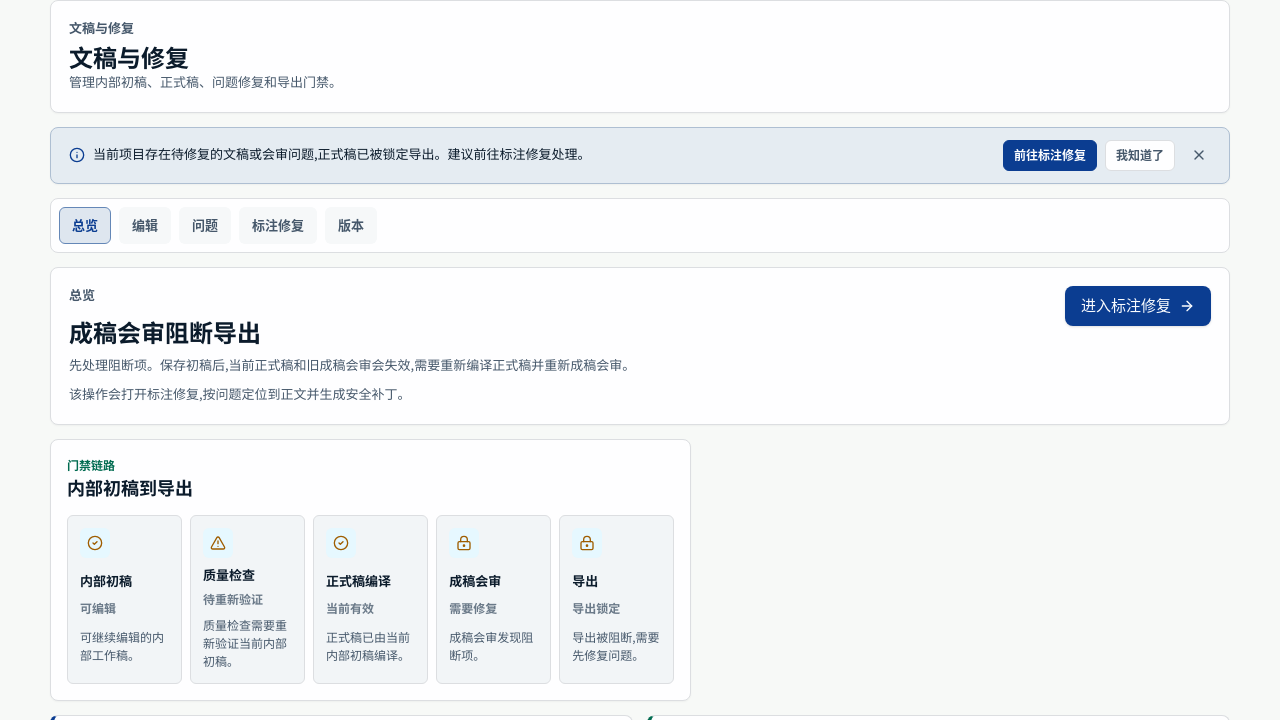
Test: DocumentRepairWorkspace › filters the issue inbox down to blocking rows
Click the tab "问题".
click(205, 225)  # box left=179, top=207, right=231, bottom=244
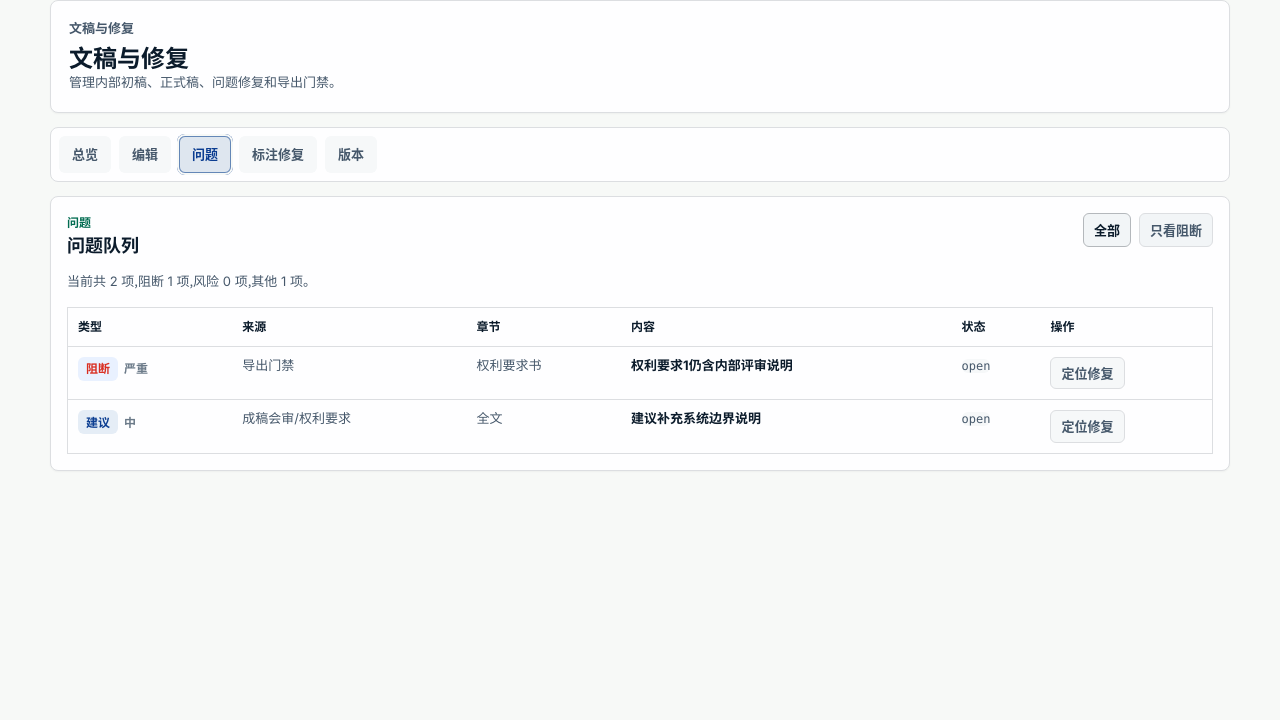
Expected: the text "阻断" is shown, left=78, top=356, right=118, bottom=380
Expected: the text "建议" is shown, left=78, top=410, right=118, bottom=434
Click the button "只看阻断".
click(1176, 230)  # box left=1139, top=213, right=1213, bottom=248
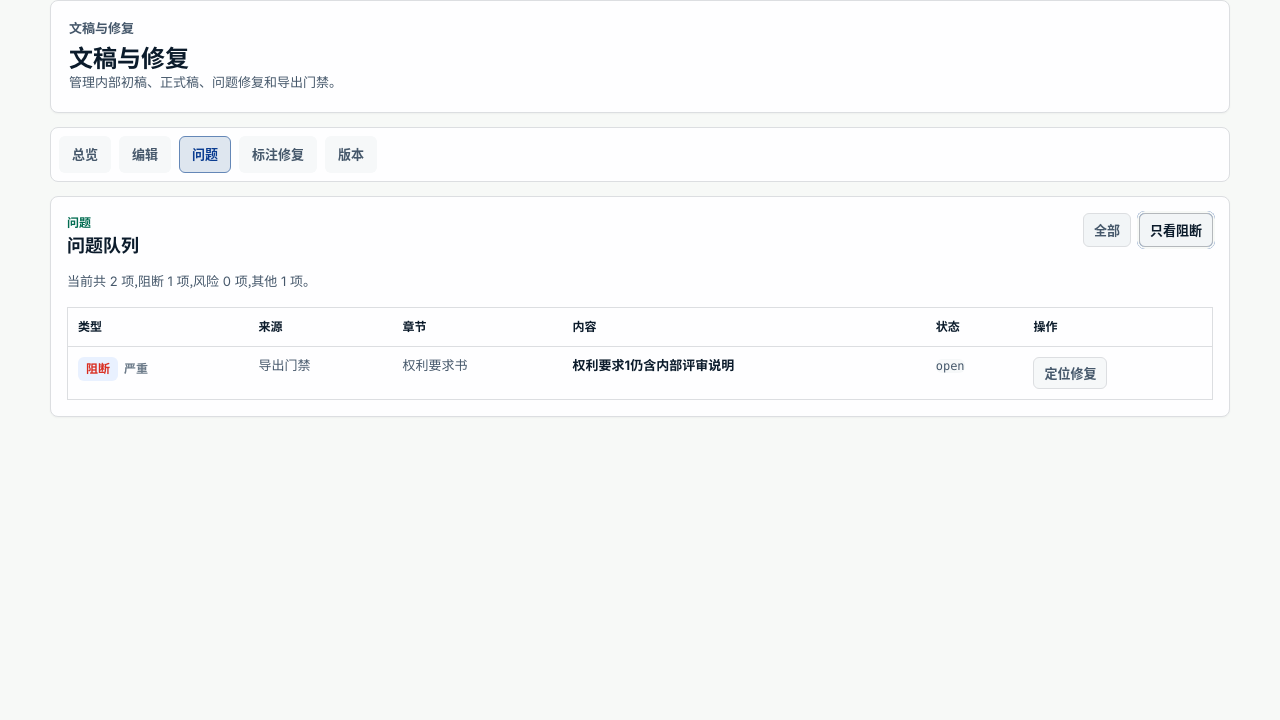
Now the text "建议" is gone
